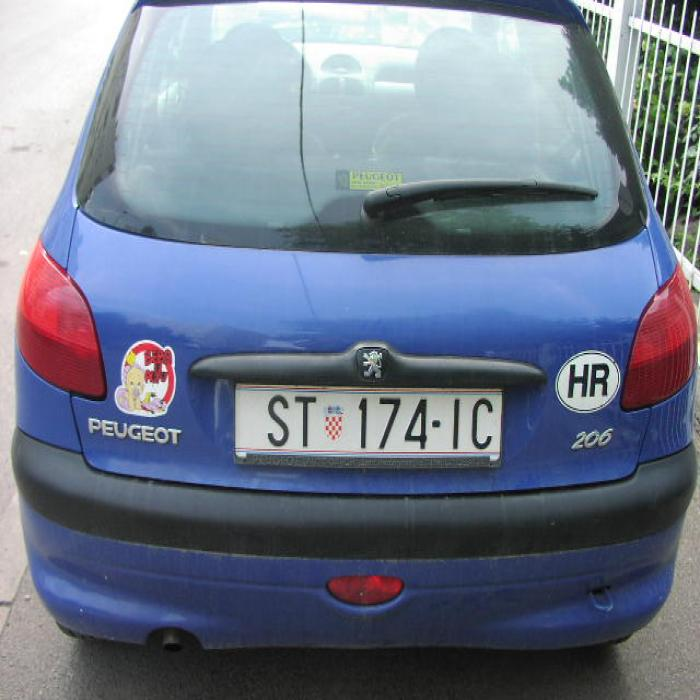number_plate: (236, 384, 500, 452)
